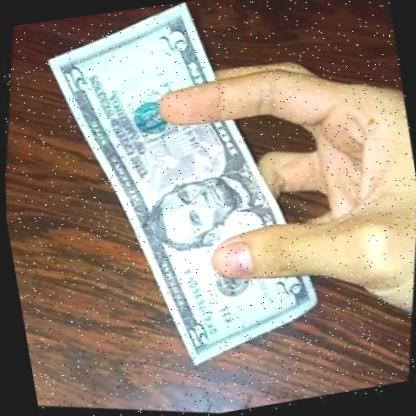five-front: (0, 0, 391, 416)
